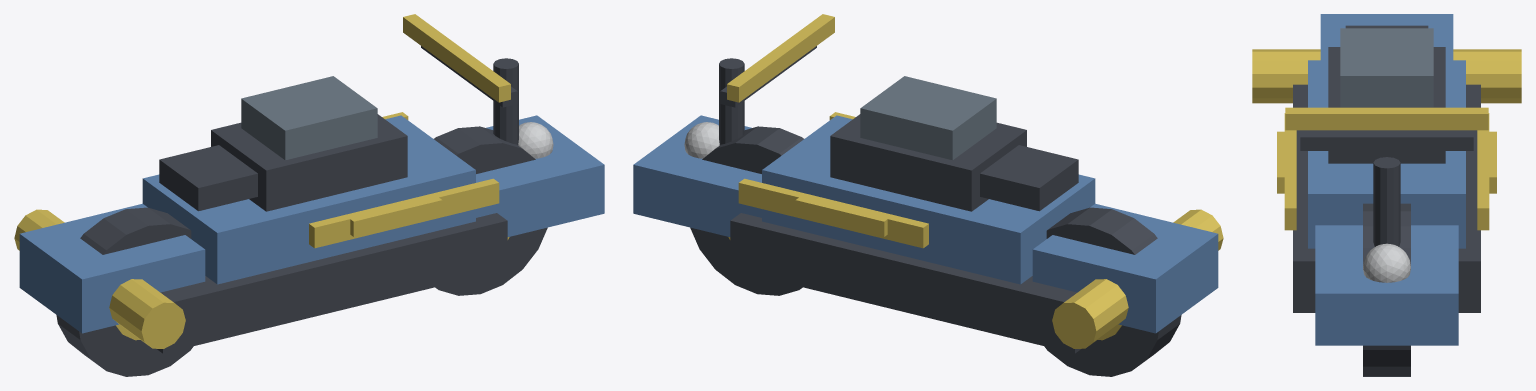
The model's file is streak_bike_upright.glb.
3 views of the same model, side by side, from view 1: azimuth 30°, elevation 25°; view 2: azimuth 150°, elevation 25°; view 3: azimuth 270°, elevation 25° (orthographic). The views are drawn at different scales.
Visible parts, largest first — view 1: world; view 2: world; view 3: world.
Boxes of the visible parts, left/top/right/bottom form: world: left=14, top=14, right=604, bottom=376; world: left=633, top=14, right=1223, bottom=376; world: left=1252, top=14, right=1521, bottom=376.
Size of the model in its own units: 4.22 by 1.85 by 1.79.
